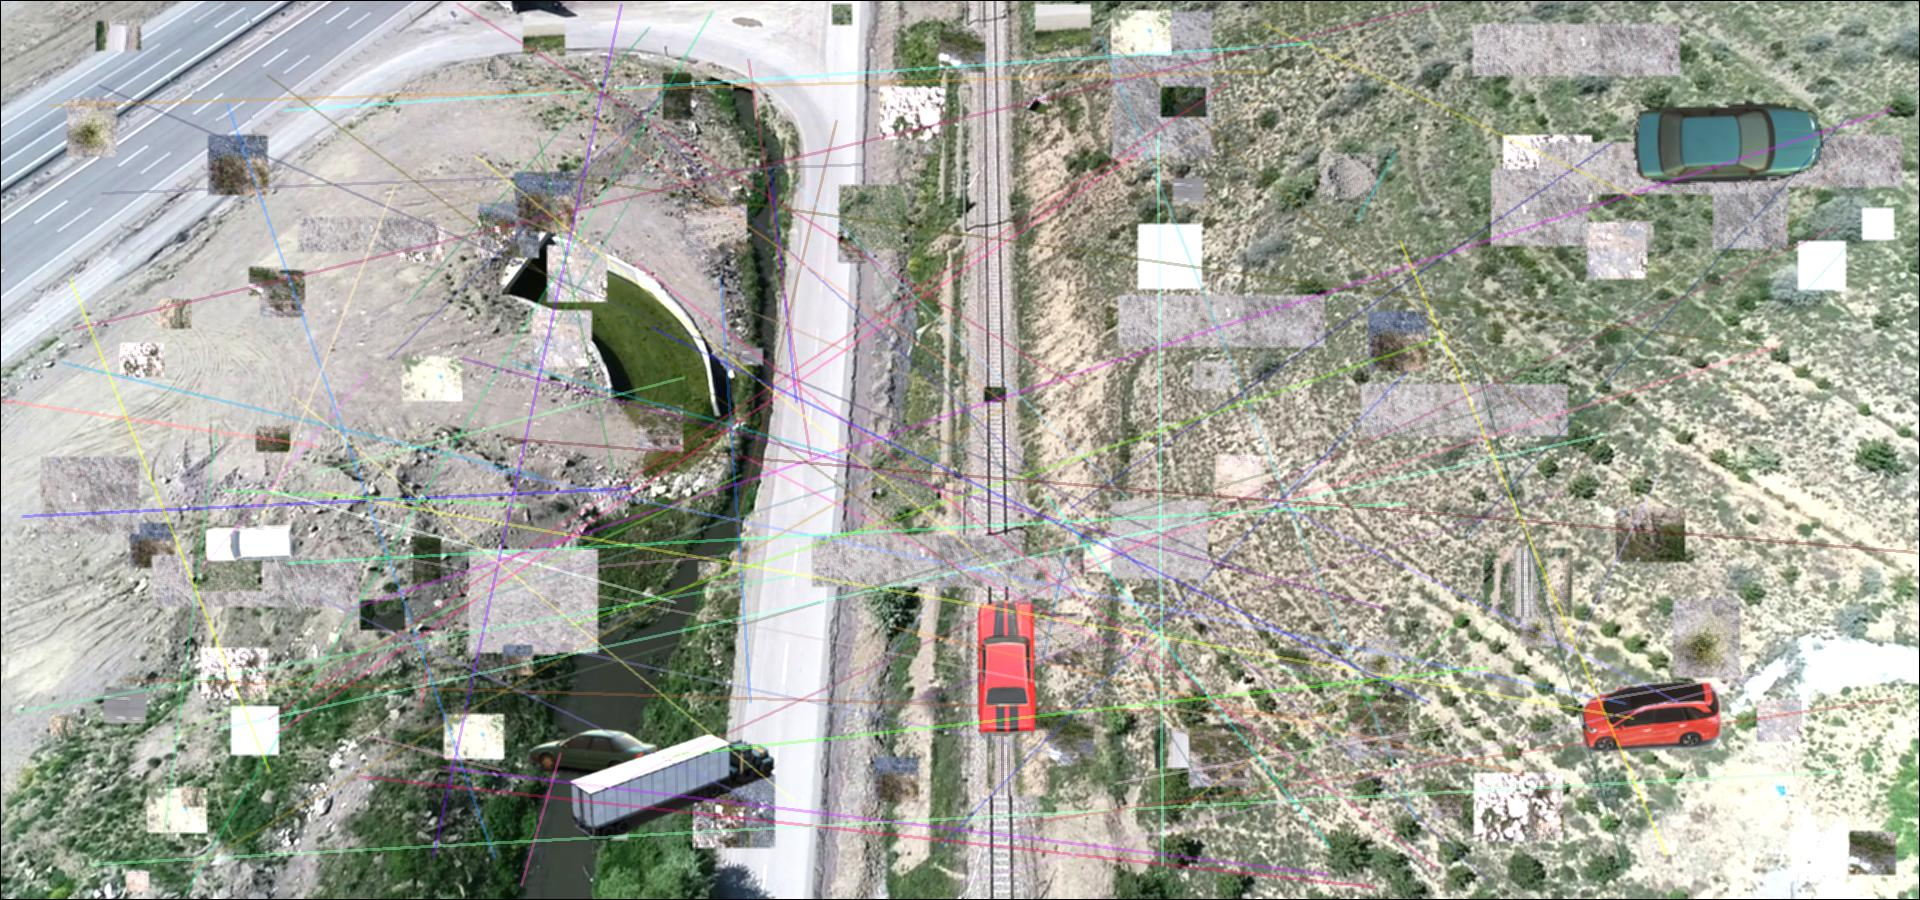arac: (562, 735, 776, 840), (1633, 100, 1824, 187), (970, 598, 1040, 741), (1583, 683, 1720, 751), (529, 726, 662, 781), (202, 520, 295, 564)
